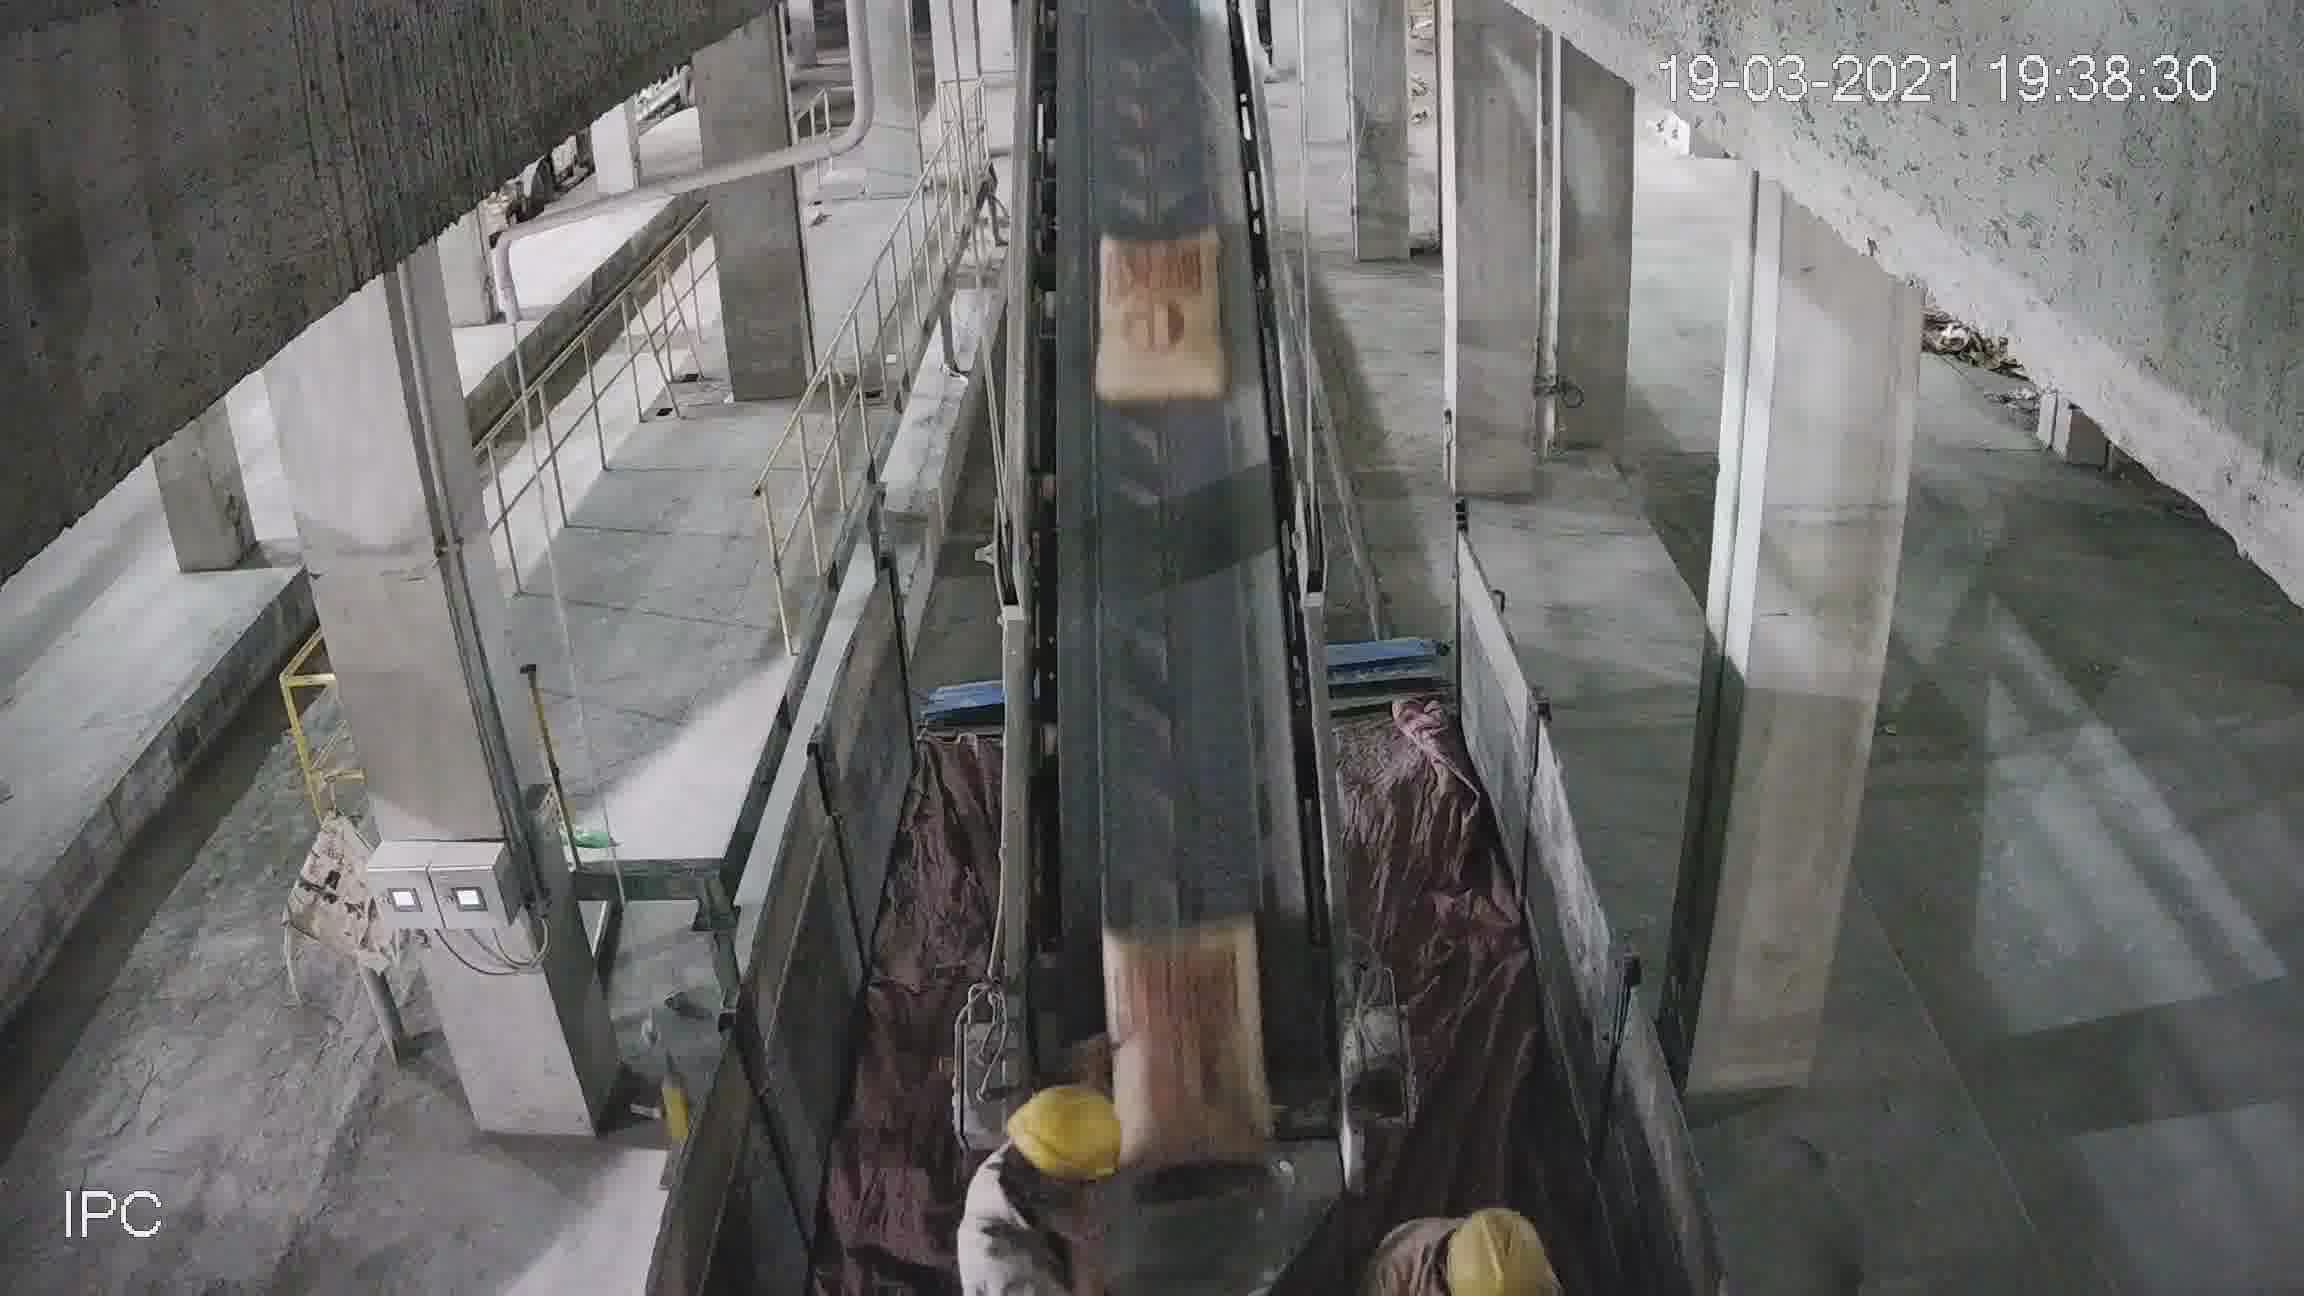bag: (1109, 915, 1258, 1150), (1095, 234, 1222, 407)
belt: (983, 89, 1367, 1237)
